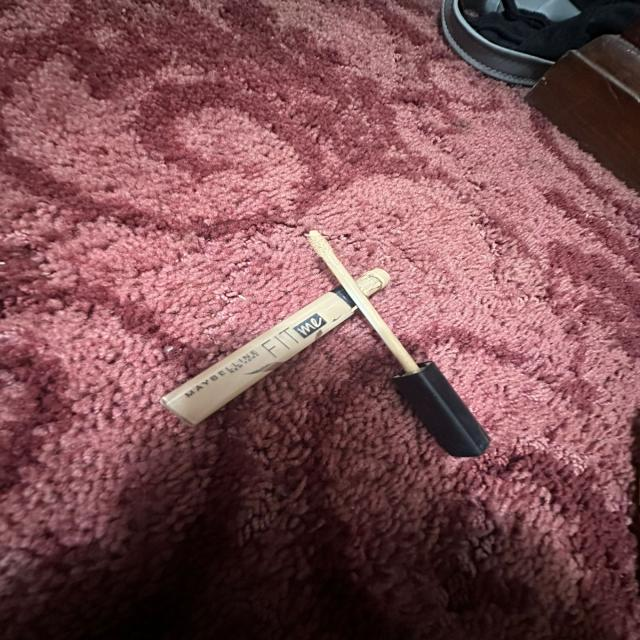concealer: (295, 220, 498, 466), (156, 258, 394, 432)
